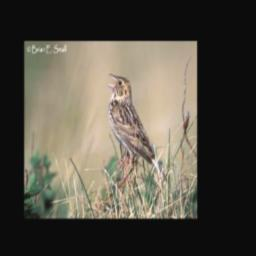Sparrow: (104, 71, 170, 189)
